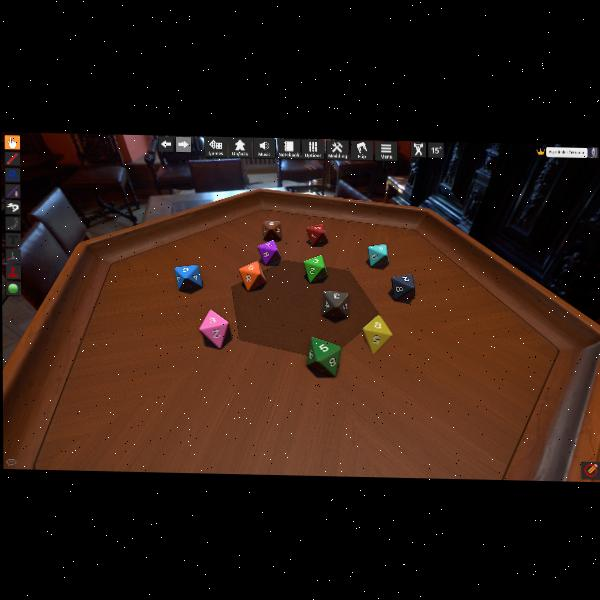d8: (307, 335, 340, 375), (199, 309, 228, 349), (362, 315, 391, 354), (238, 260, 266, 291), (174, 263, 202, 293), (322, 290, 349, 319), (257, 239, 281, 267), (304, 255, 328, 283), (390, 273, 414, 299), (368, 244, 388, 267), (308, 223, 328, 245), (262, 219, 281, 241)
